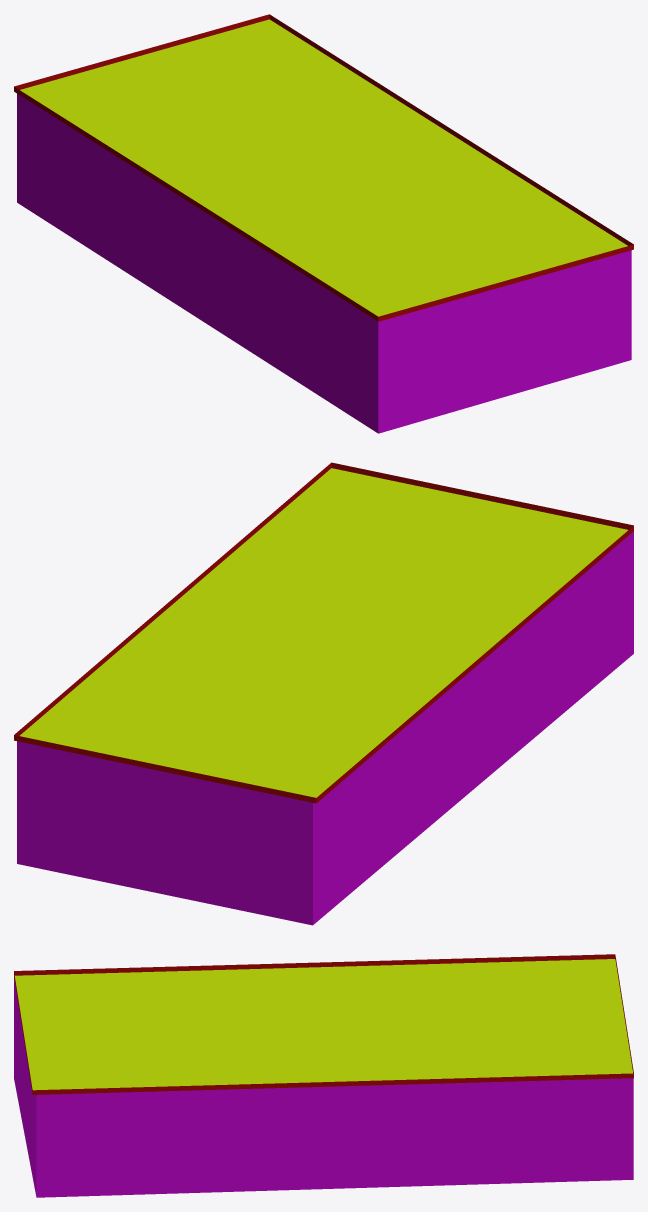
Rendered from bureaux_blancs.glb.
The picture shows the model from 3 angles, top to bottom: view 1: azimuth 30°, elevation 25°; view 2: azimuth 150°, elevation 25°; view 3: azimuth 270°, elevation 25°; orthographic projection. The views are drawn at different scales.
Parts seen in each view (by area): view 1: bureaux_blancs; view 2: bureaux_blancs; view 3: bureaux_blancs.
Boxes of the visible parts, x1=… form: bureaux_blancs: x1=14, y1=14, x2=633, y2=433; bureaux_blancs: x1=14, y1=462, x2=633, y2=925; bureaux_blancs: x1=14, y1=954, x2=633, y2=1197.
Size of the model in its own units: 21.73 by 8.02 by 41.87.
